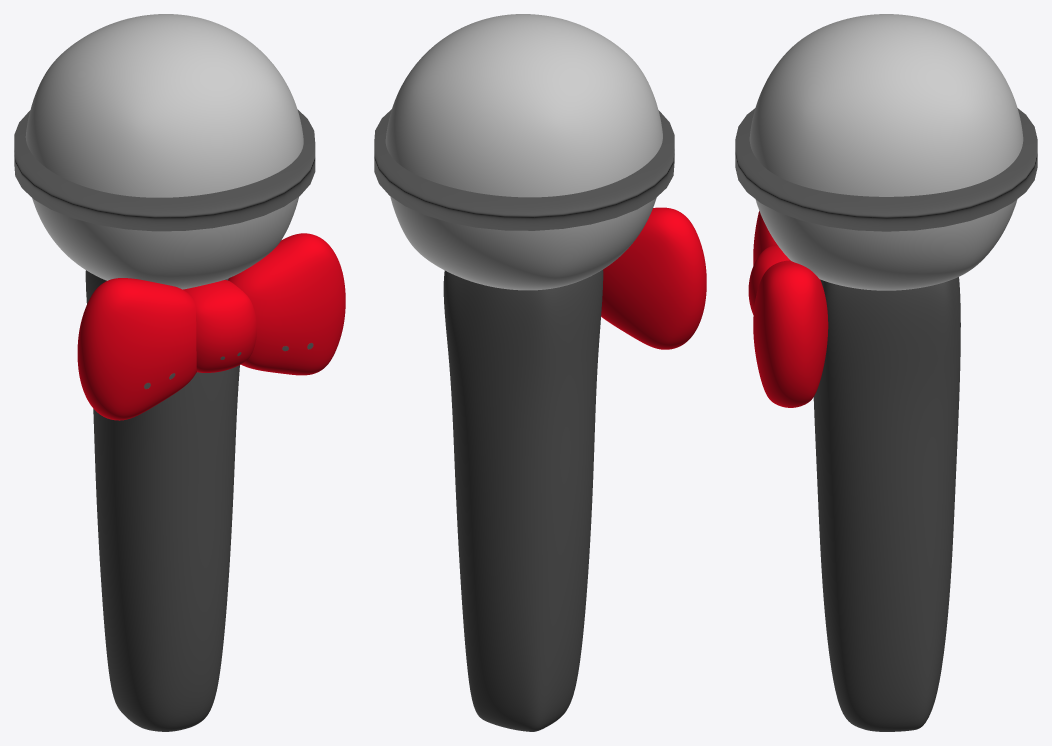
File: mike.glb
The picture shows the model from 3 angles, left to right: view 1: azimuth 30°, elevation 25°; view 2: azimuth 150°, elevation 25°; view 3: azimuth 270°, elevation 25°; orthographic projection.
Visible parts, largest first — view 1: Cube, Cube.001, Cube.003, 円柱, Cube.002; view 2: Cube.001, Cube, 円柱, Cube.003; view 3: Cube.001, Cube, 円柱, Cube.003, Cube.002.
Boxes of the visible parts, x1,y1,x2,y2 form: Cube: (25, 14, 303, 289); Cube.001: (85, 270, 239, 731); Cube.003: (77, 233, 345, 420); 円柱: (14, 109, 315, 231); Cube.002: (183, 280, 256, 372); Cube.001: (443, 270, 603, 731); Cube: (385, 14, 662, 290); 円柱: (374, 109, 674, 230); Cube.003: (601, 207, 706, 349); Cube.001: (813, 277, 960, 731); Cube: (749, 14, 1023, 290); 円柱: (735, 108, 1037, 231); Cube.003: (753, 211, 828, 407); Cube.002: (748, 244, 789, 314).
Size of the model in its own units: 1.76 by 4.45 by 1.76.
Materials: 4 (4 with a texture image).
